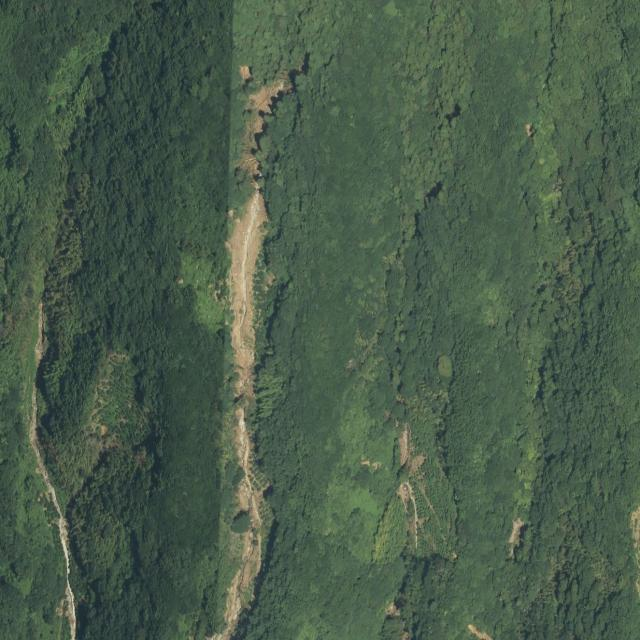landslide: (212, 71, 293, 640)
